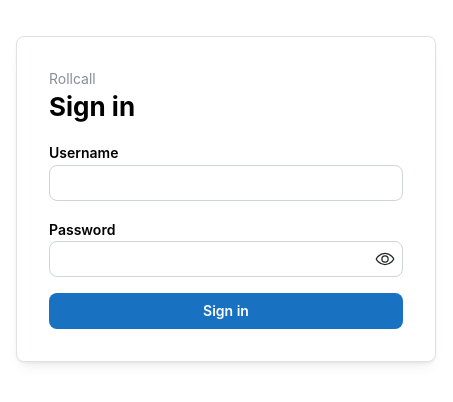
Test: signing in › asks for both fields before sending anything
Expected: the heading "Sign in" is shown, [49,91,135,122]
Click the button "Sign in": (226, 312) [49,294,403,330]
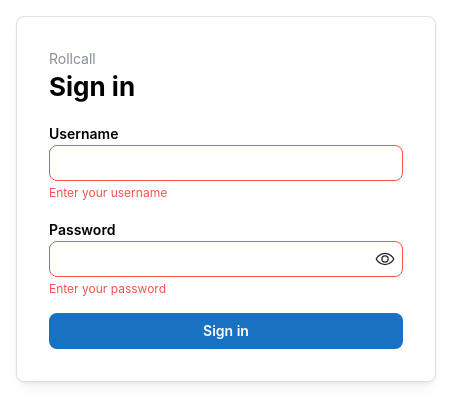
Expected: the text "Enter your username" is shown, [49,185,167,200]
Expected: the text "Enter your password" is shown, [49,282,166,296]
